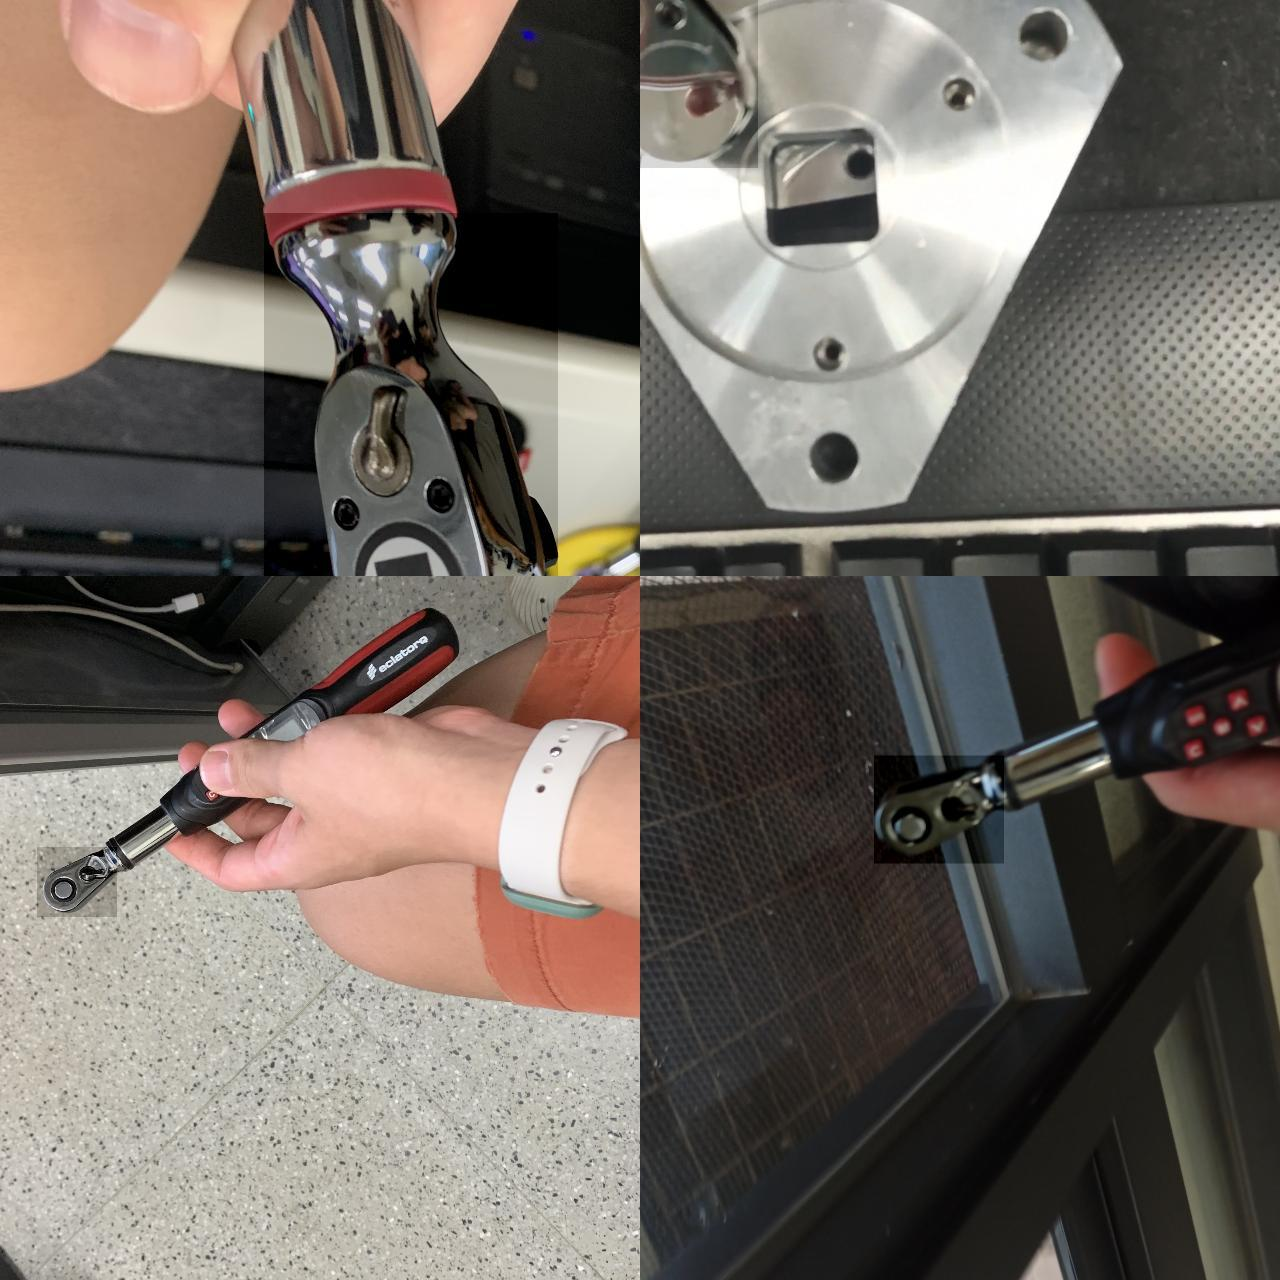Tool: (263, 212, 557, 576), (640, 0, 757, 166), (873, 755, 1003, 863), (36, 846, 116, 915)
